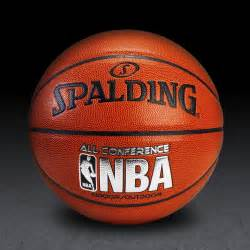basketball: (26, 28, 225, 229)
